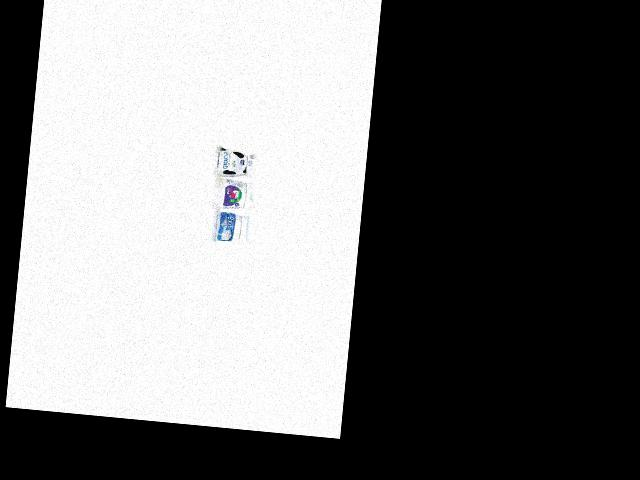cotage: (208, 207, 246, 245)
